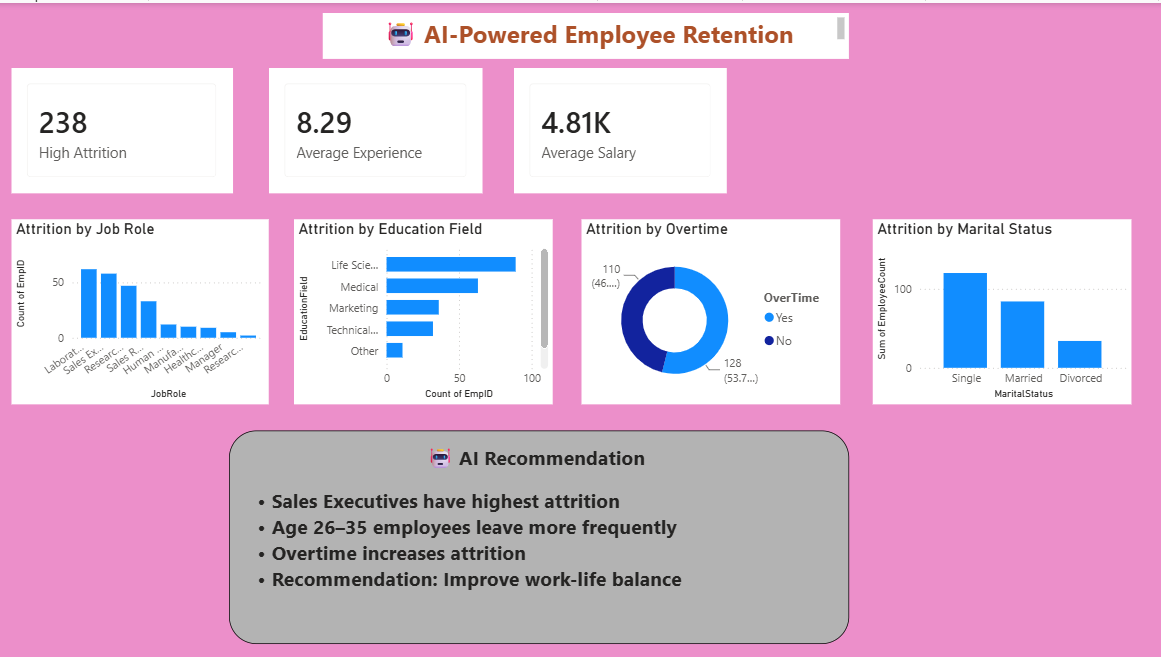

This screenshot's page, from the dashboard's own definition file:
{"tool":"powerbi","page":{"name":"🤖 AI Insights","canvas":[1280,720],"ordinal":1},"visuals":[{"type":"cardVisual","fields":{"Data":["HR_Analytics.High Attrition"]},"box":[13.7,71.4,242.9,137.2],"z":0},{"type":"cardVisual","fields":{"Data":["HR_Analytics.Average Experience"]},"box":[296.4,71.4,234.6,137.2],"z":1000},{"type":"cardVisual","fields":{"Data":["HR_Analytics.Average Salary"]},"box":[565.4,71.4,233.3,137.2],"z":2000},{"type":"columnChart","title":"Attrition by Job Role","fields":{"Category":["HR_Analytics.JobRole"],"Y":["CountNonNull(HR_Analytics.EmpID)"]},"box":[13.7,237.4,282.7,203.1],"z":3000},{"type":"clusteredBarChart","title":"Attrition by Education Field","fields":{"Category":["HR_Analytics.EducationField"],"Y":["CountNonNull(HR_Analytics.EmpID)"]},"box":[323.8,237.4,284,203.1],"z":4000},{"type":"donutChart","title":"Attrition by Overtime","fields":{"Category":["HR_Analytics.OverTime"],"Y":["Sum(HR_Analytics.EmployeeCount)"]},"box":[639.5,237.4,284,203.1],"z":4001},{"type":"clusteredColumnChart","title":"Attrition by Marital Status","fields":{"Category":["HR_Analytics.MaritalStatus"],"Y":["Sum(HR_Analytics.EmployeeCount)"]},"box":[959.2,237.4,284,203.1],"z":4002},{"type":"textbox","box":[252.5,469.3,680.6,234.6],"z":4003},{"type":"textbox","box":[355.4,11,577.7,50.8],"z":4006}]}

Visuals, with their boxes in screenshot pixels (x1, y1, x2, y2), scaled from the page's 1280x720 canvas onto the 1161x657 screenshot:
cardVisual - HR_Analytics.High Attrition: locate(12, 65, 233, 190)
cardVisual - HR_Analytics.Average Experience: locate(269, 65, 482, 190)
cardVisual - HR_Analytics.Average Salary: locate(513, 65, 724, 190)
"Attrition by Job Role" columnChart: locate(12, 217, 269, 402)
"Attrition by Education Field" clusteredBarChart: locate(294, 217, 551, 402)
"Attrition by Overtime" donutChart: locate(580, 217, 838, 402)
"Attrition by Marital Status" clusteredColumnChart: locate(870, 217, 1128, 402)
textbox: locate(229, 428, 846, 642)
textbox: locate(322, 10, 846, 56)
